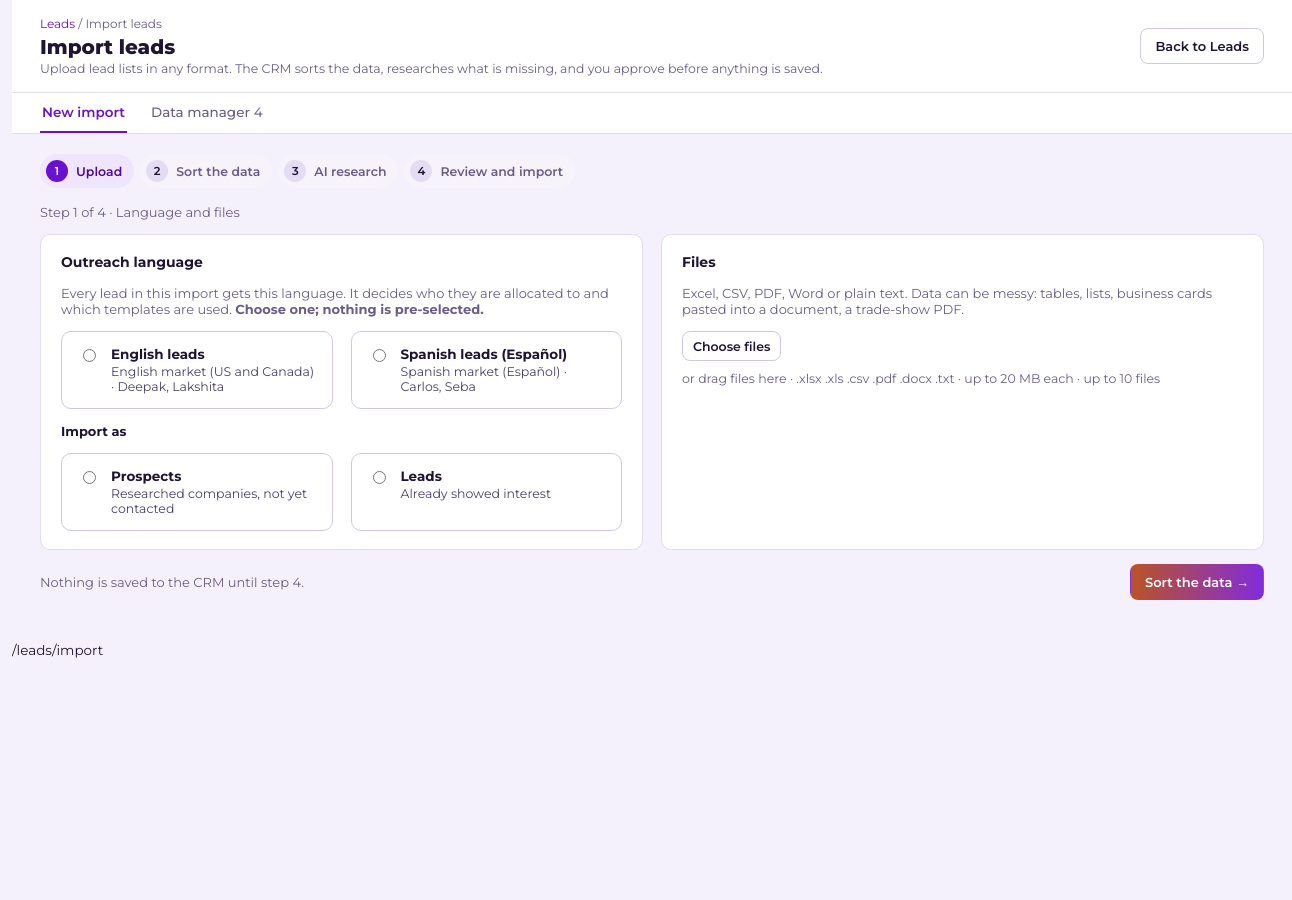
Test: step 1: no default language or import type › a later step pill is refused the same way; choosing English leaves only the import type in the alert
Click the button "3 AI research".
click(338, 171)  # box x1=278 y1=154 x2=398 y2=188
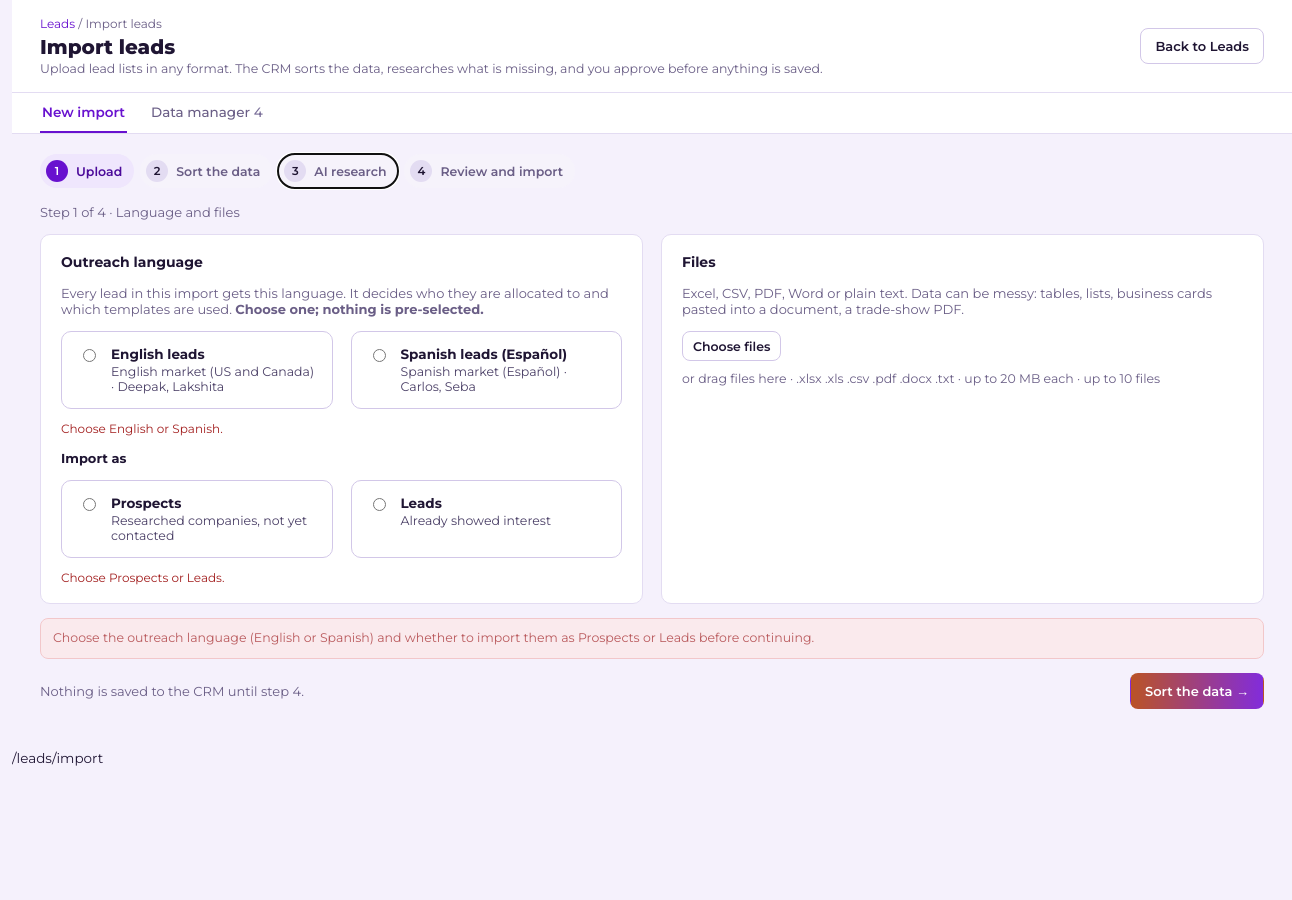
Now the message is shown, box x1=40 y1=618 x2=1264 y2=659
Click the radio button labelled "English leads".
click(90, 356)  # box x1=83 y1=349 x2=96 y2=362
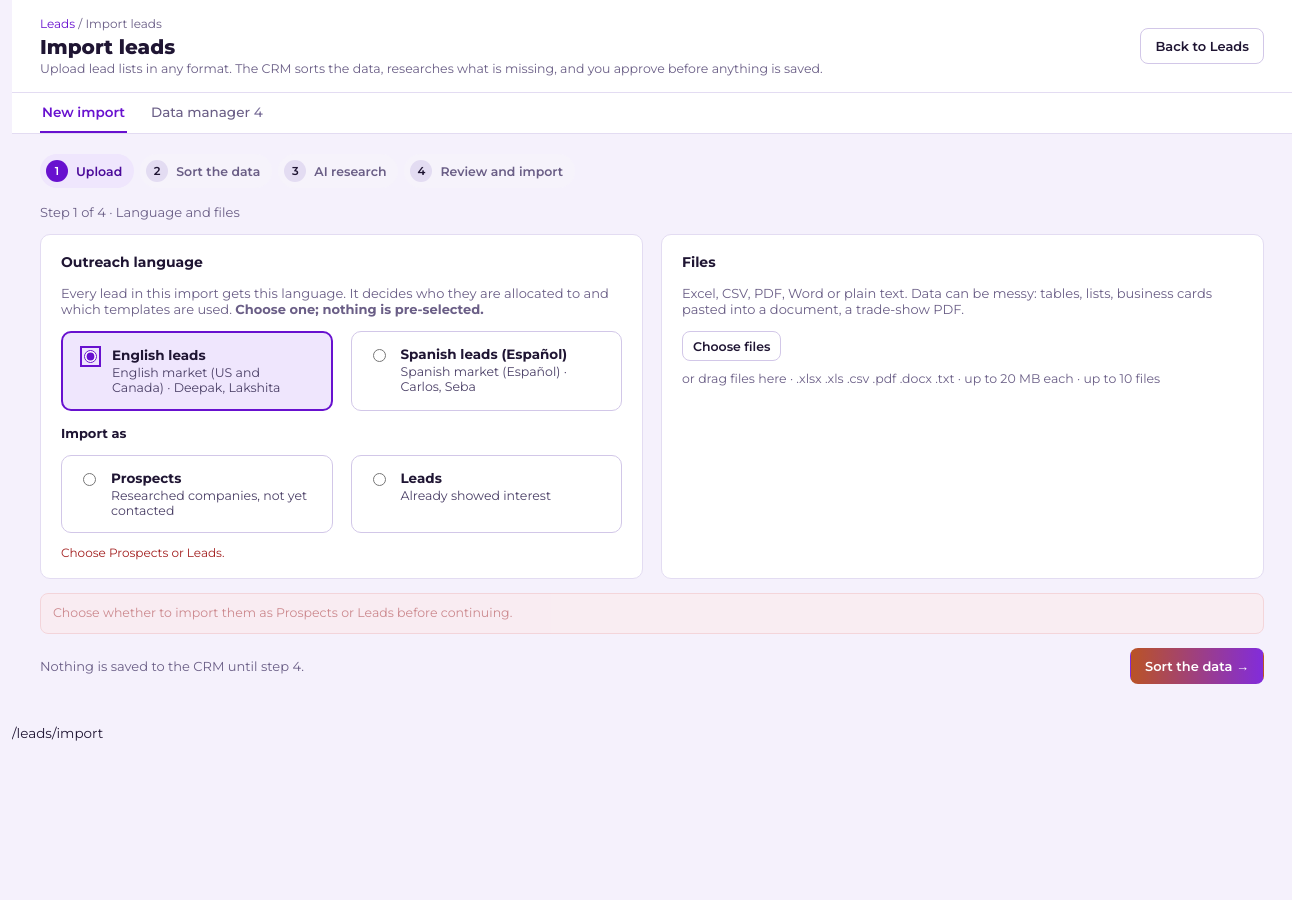
Now the text "Choose Prospects or Leads." is shown, box x1=61 y1=545 x2=224 y2=560
Now the message reads "Choose whether to import them as Prospects or Leads before continuing.", box x1=53 y1=605 x2=512 y2=620
Now the text "Choose English or Spanish." is gone
Click the radio button labelled "Prospects Researched companies, not yet contacted".
click(90, 480)  # box x1=83 y1=473 x2=96 y2=486
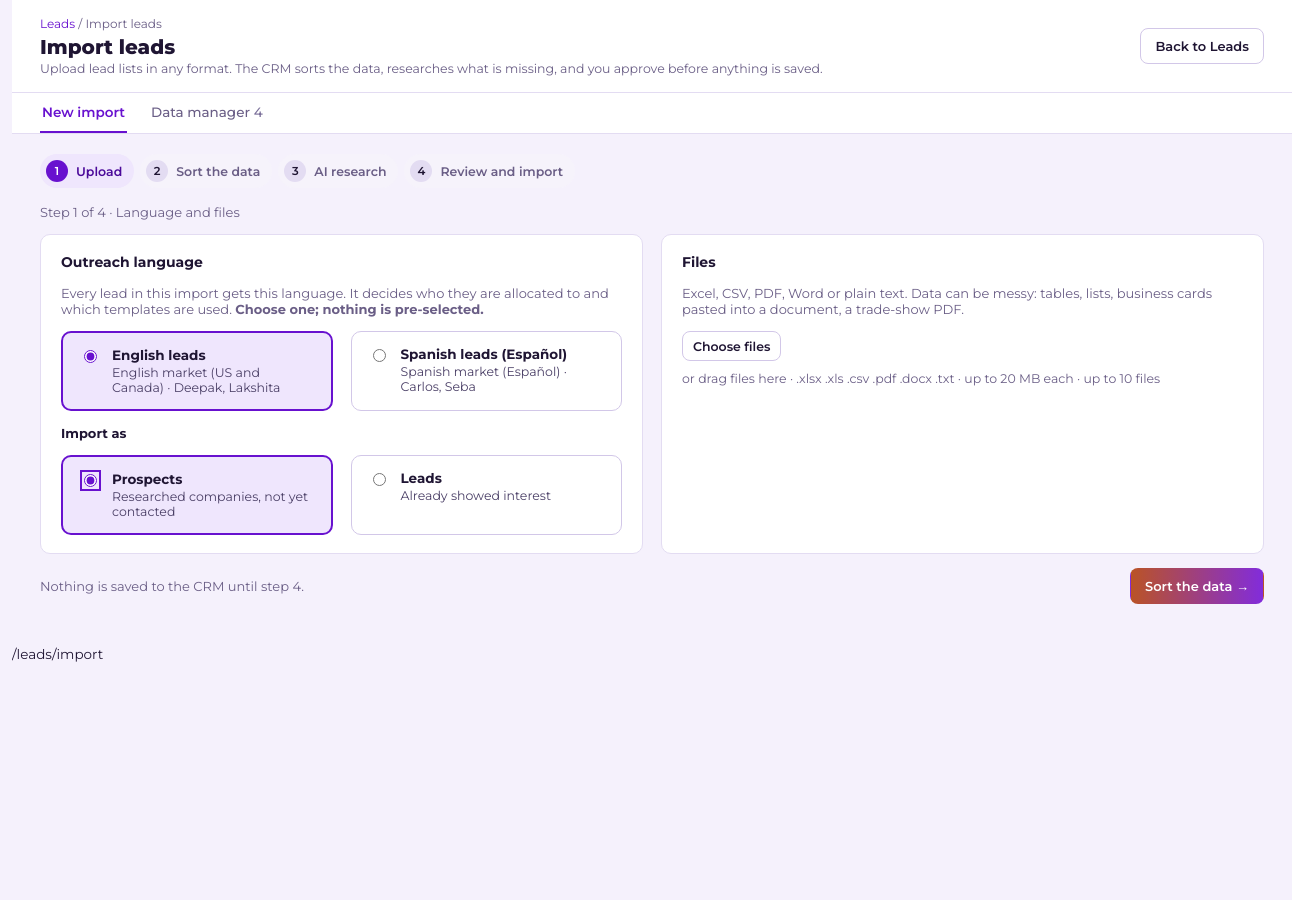
Now the message "Choose whether to import them as Prospects or Leads before continuing." is gone
